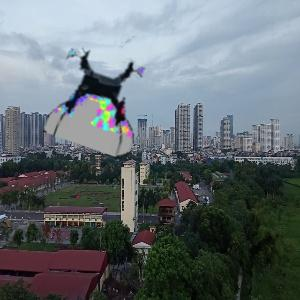drone: (49, 48, 150, 149)
